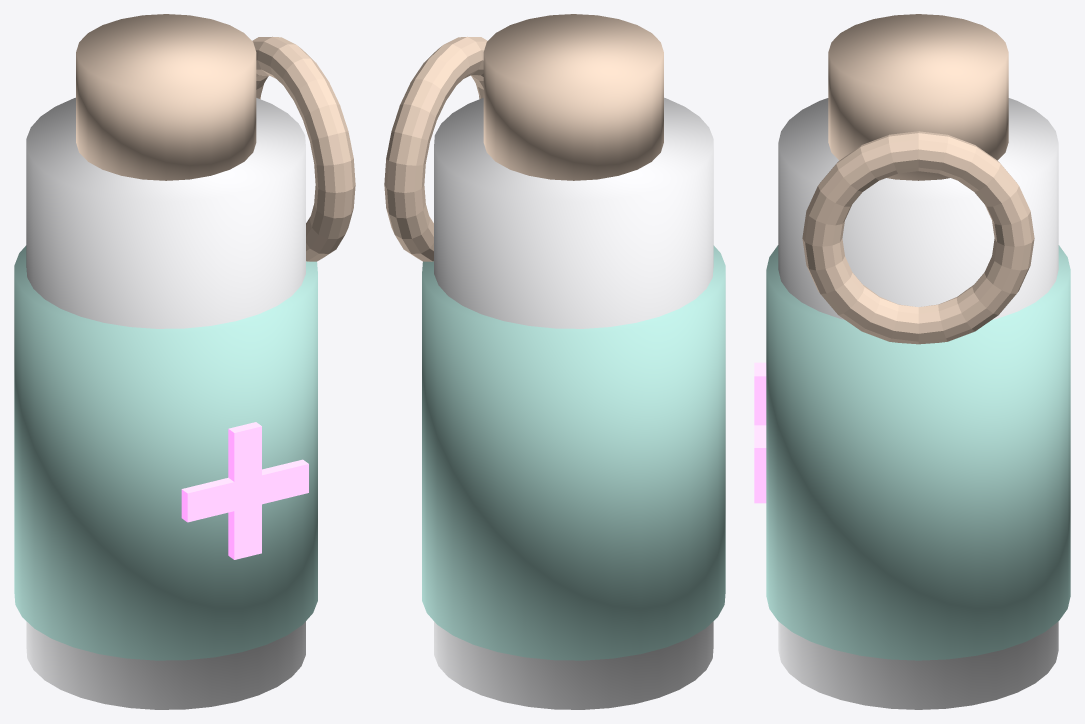
The model's file is perk_stam.glb.
3 renders of one model, left to right at view 1: azimuth 30°, elevation 25°; view 2: azimuth 150°, elevation 25°; view 3: azimuth 270°, elevation 25°, orthographic.
Visible parts, largest first — view 1: GEO-medkit_jacket, GEO-medkit_canister, GEO-medkit_top_valve, GEO-medkit_heart_grip, GEO-medkit_cross_horiz, GEO-medkit_cross_vert; view 2: GEO-medkit_jacket, GEO-medkit_canister, GEO-medkit_top_valve, GEO-medkit_heart_grip; view 3: GEO-medkit_jacket, GEO-medkit_canister, GEO-medkit_heart_grip, GEO-medkit_top_valve, GEO-medkit_cross_vert, GEO-medkit_cross_horiz.
Boxes of the visible parts, bbox=[...] form: GEO-medkit_jacket: bbox=[14, 245, 317, 660]; GEO-medkit_canister: bbox=[26, 97, 305, 709]; GEO-medkit_top_valve: bbox=[76, 14, 256, 180]; GEO-medkit_heart_grip: bbox=[252, 36, 355, 261]; GEO-medkit_cross_horiz: bbox=[181, 459, 308, 522]; GEO-medkit_cross_vert: bbox=[228, 422, 261, 559]; GEO-medkit_jacket: bbox=[422, 245, 725, 660]; GEO-medkit_canister: bbox=[434, 97, 713, 709]; GEO-medkit_top_valve: bbox=[483, 14, 663, 180]; GEO-medkit_heart_grip: bbox=[384, 36, 487, 261]; GEO-medkit_jacket: bbox=[766, 245, 1070, 660]; GEO-medkit_canister: bbox=[778, 98, 1058, 709]; GEO-medkit_heart_grip: bbox=[802, 131, 1034, 344]; GEO-medkit_top_valve: bbox=[828, 14, 1008, 180]; GEO-medkit_cross_vert: bbox=[754, 362, 766, 503]; GEO-medkit_cross_horiz: bbox=[754, 425, 766, 477].
Size of the model in its own units: 0.156 by 0.33 by 0.158.
